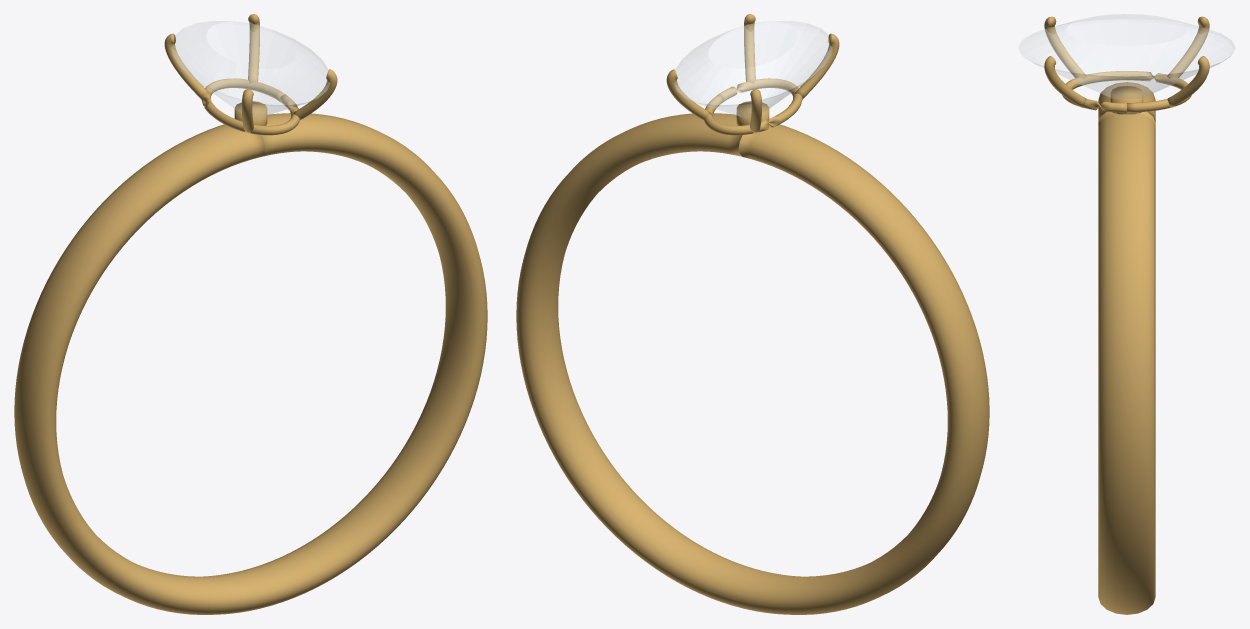
The model's file is layouts-north-south.glb.
3 renders of one model, left to right at view 1: azimuth 30°, elevation 25°; view 2: azimuth 150°, elevation 25°; view 3: azimuth 270°, elevation 25°, orthographic.
Visible parts, largest first — view 1: Band, Gem, Lower gallery, Prong.001, Prong, Prong.003; view 2: Band, Gem, Lower gallery, Prong.002, Prong.003, Prong; view 3: Band, Gem, Lower gallery, Prong.001, Prong.002, Prong, Prong.003, Head stem.
Part boxes in pixels (left/top/right/bottom): Band: left=14, top=113, right=487, bottom=614; Gem: left=171, top=21, right=329, bottom=117; Lower gallery: left=201, top=78, right=299, bottom=135; Prong.001: left=164, top=33, right=209, bottom=98; Prong: left=248, top=14, right=259, bottom=83; Prong.003: left=292, top=69, right=337, bottom=120; Band: left=516, top=113, right=989, bottom=614; Gem: left=674, top=21, right=832, bottom=117; Lower gallery: left=704, top=78, right=802, bottom=135; Prong.002: left=794, top=33, right=839, bottom=98; Prong.003: left=744, top=14, right=755, bottom=83; Prong: left=666, top=69, right=711, bottom=120; Band: left=1098, top=82, right=1155, bottom=614; Gem: left=1018, top=14, right=1235, bottom=98; Lower gallery: left=1062, top=71, right=1191, bottom=112; Prong.001: left=1167, top=16, right=1209, bottom=78; Prong.002: left=1044, top=16, right=1086, bottom=78; Prong: left=1167, top=56, right=1209, bottom=107; Prong.003: left=1044, top=56, right=1086, bottom=107; Head stem: left=1110, top=86, right=1143, bottom=114.
Size of the model in its own units: 19.6 by 22.72 by 8.
